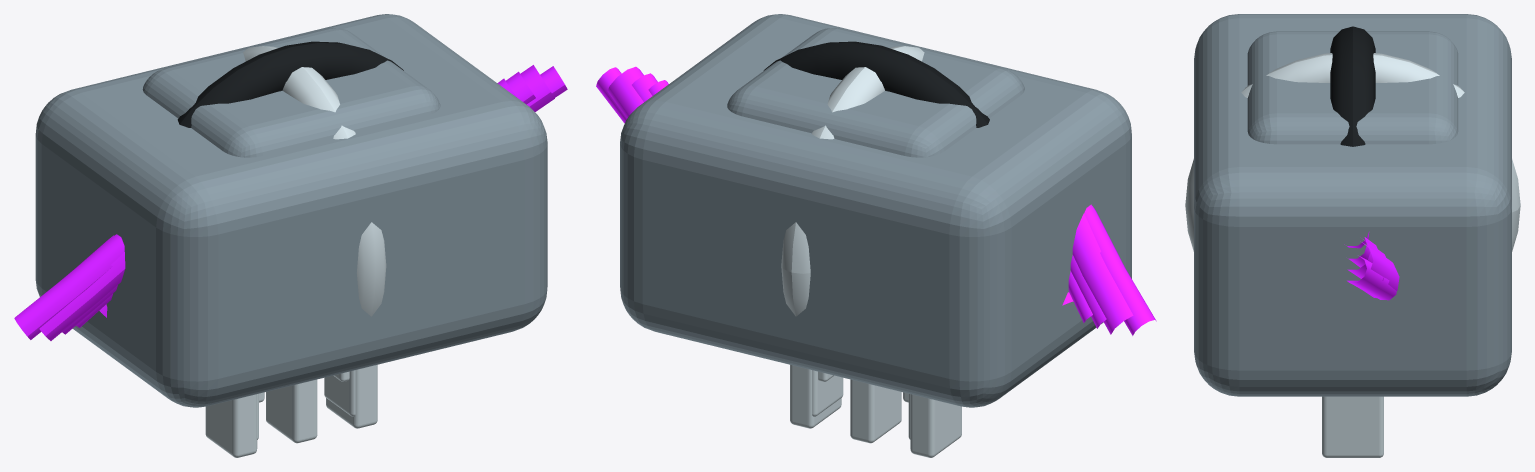
Rendered from electrical_05.glb.
3 renders of one model, left to right at view 1: azimuth 30°, elevation 25°; view 2: azimuth 150°, elevation 25°; view 3: azimuth 270°, elevation 25°, orthographic.
Parts seen in each view (by area): view 1: asset_mesh__electrical_0206__reference_body, asset_mesh__electrical_0188__relay_or_fuse_body, asset_mesh__electrical_0187__service_element, asset_mesh__electrical_0213__functional_ring, asset_mesh__electrical_0240__current_path, asset_mesh__electrical_0194__current_path, asset_mesh__electrical_0188__blade_2, asset_mesh__electrical_0188__blade_1, asset_mesh__electrical_0188__blade_3, asset_mesh__electrical_0232__blade_3, asset_mesh__electrical_0229__current_path; view 2: asset_mesh__electrical_0206__reference_body, asset_mesh__electrical_0188__relay_or_fuse_body, asset_mesh__electrical_0187__service_element, asset_mesh__electrical_0213__functional_ring, asset_mesh__electrical_0194__current_path, asset_mesh__electrical_0240__current_path, asset_mesh__electrical_0188__blade_1, asset_mesh__electrical_0188__blade_2, asset_mesh__electrical_0188__blade_3, asset_mesh__electrical_0229__current_path, asset_mesh__electrical_0232__blade_3, asset_mesh__electrical_0228__current_path; view 3: asset_mesh__electrical_0206__reference_body, asset_mesh__electrical_0188__relay_or_fuse_body, asset_mesh__electrical_0187__service_element, asset_mesh__electrical_0213__functional_ring, asset_mesh__electrical_0188__blade_3, asset_mesh__electrical_0240__current_path, asset_mesh__electrical_0194__current_path.
Part boxes in pixels (x1,y1,x2,y2): asset_mesh__electrical_0206__reference_body: (35,14,547,407); asset_mesh__electrical_0188__relay_or_fuse_body: (142,28,440,157); asset_mesh__electrical_0187__service_element: (177,41,403,127); asset_mesh__electrical_0213__functional_ring: (243,46,386,316); asset_mesh__electrical_0240__current_path: (14,66,567,339); asset_mesh__electrical_0194__current_path: (39,65,554,340); asset_mesh__electrical_0188__blade_2: (266,379,317,443); asset_mesh__electrical_0188__blade_1: (205,394,257,457); asset_mesh__electrical_0188__blade_3: (326,365,377,428); asset_mesh__electrical_0232__blade_3: (324,370,355,416); asset_mesh__electrical_0229__current_path: (62,71,535,334); asset_mesh__electrical_0206__reference_body: (620,14,1131,407); asset_mesh__electrical_0188__relay_or_fuse_body: (727,28,1024,157); asset_mesh__electrical_0187__service_element: (763,41,989,127); asset_mesh__electrical_0213__functional_ring: (781,46,924,316); asset_mesh__electrical_0194__current_path: (607,66,1133,334); asset_mesh__electrical_0240__current_path: (596,67,1156,335); asset_mesh__electrical_0188__blade_1: (910,394,961,457); asset_mesh__electrical_0188__blade_2: (850,379,901,443); asset_mesh__electrical_0188__blade_3: (790,365,841,428); asset_mesh__electrical_0229__current_path: (632,73,1106,328); asset_mesh__electrical_0232__blade_3: (812,370,843,416); asset_mesh__electrical_0228__current_path: (648,80,1092,322); asset_mesh__electrical_0206__reference_body: (1194,14,1511,396); asset_mesh__electrical_0188__relay_or_fuse_body: (1247,31,1458,144); asset_mesh__electrical_0187__service_element: (1330,26,1375,146); asset_mesh__electrical_0213__functional_ring: (1185,53,1520,251); asset_mesh__electrical_0188__blade_3: (1322,396,1383,457); asset_mesh__electrical_0240__current_path: (1349,255,1396,300); asset_mesh__electrical_0194__current_path: (1347,241,1399,297).
Bounding box in the file's own units: 1.54 × 1.02 × 0.815.
